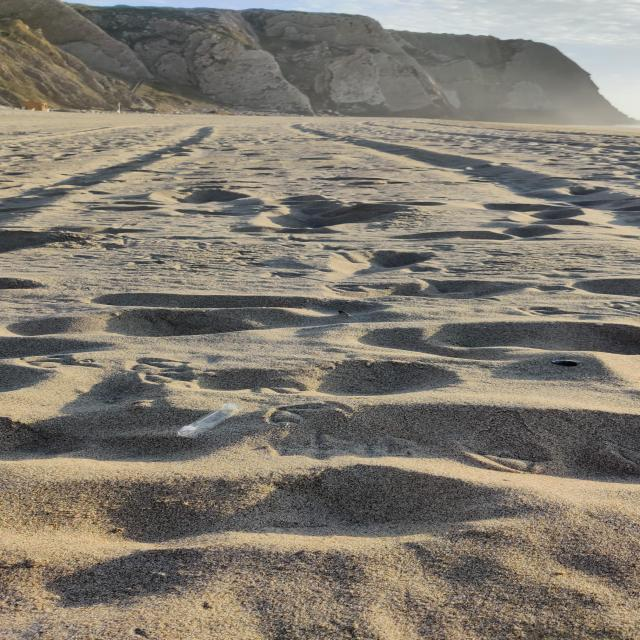litter: (160, 397, 276, 454)
